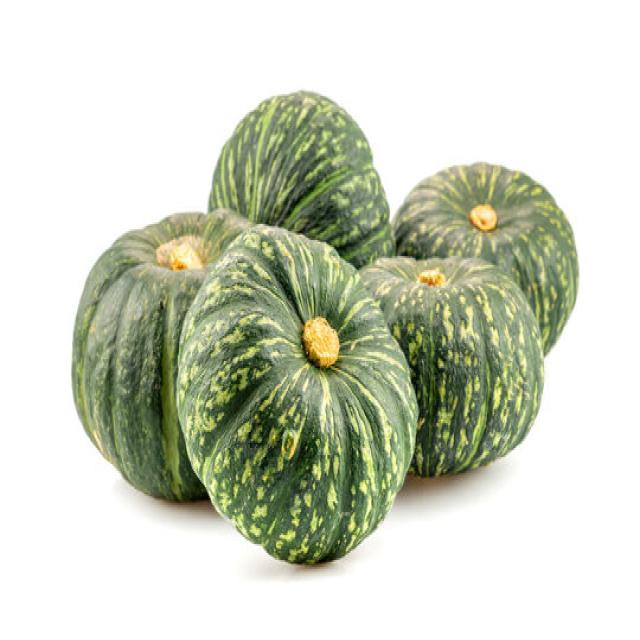Pumpkin: (174, 222, 420, 566), (70, 206, 255, 502), (356, 253, 544, 477), (390, 160, 578, 356), (206, 87, 396, 269)
